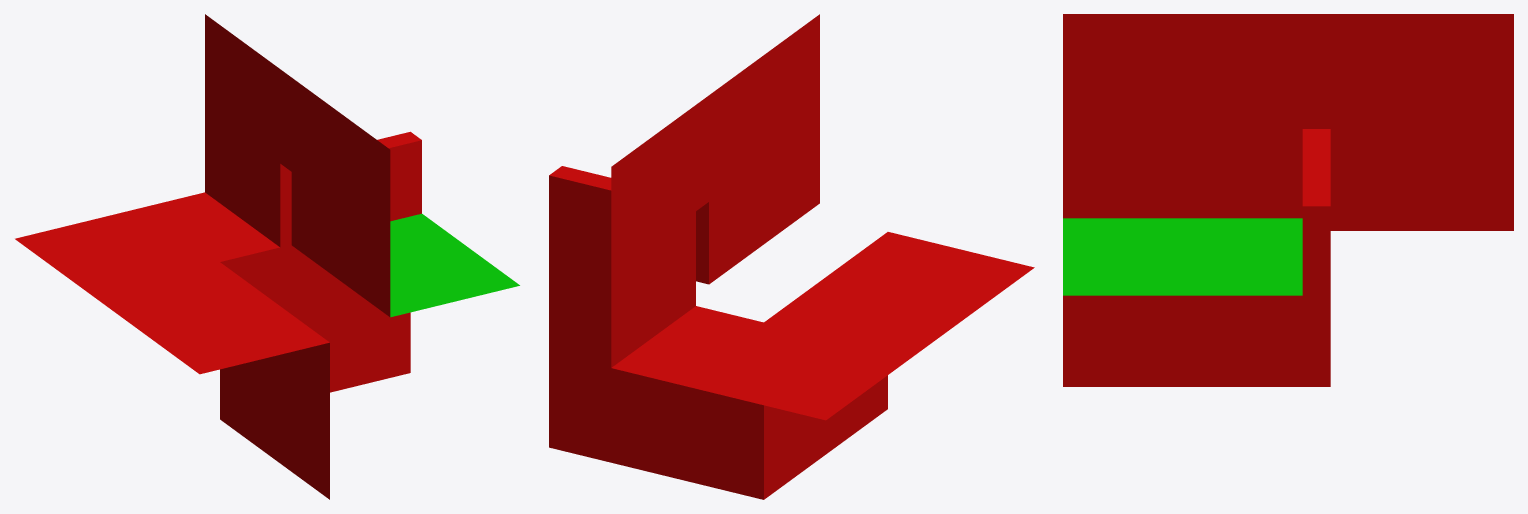
3 views of the same model, side by side, from view 1: azimuth 30°, elevation 25°; view 2: azimuth 150°, elevation 25°; view 3: azimuth 270°, elevation 25° (orthographic). The views are drawn at different scales.
Parts seen in each view (by area): view 1: None_E_W_E_E_E_E_A_A_None; view 2: None_E_W_E_E_E_E_A_A_None; view 3: None_E_W_E_E_E_E_A_A_None.
Boxes of the visible parts, x1=… form: None_E_W_E_E_E_E_A_A_None: x1=15, y1=14, x2=519, y2=499; None_E_W_E_E_E_E_A_A_None: x1=549, y1=14, x2=1034, y2=499; None_E_W_E_E_E_E_A_A_None: x1=1063, y1=14, x2=1513, y2=386.
Size of the model in its own units: 100 by 100 by 100.
